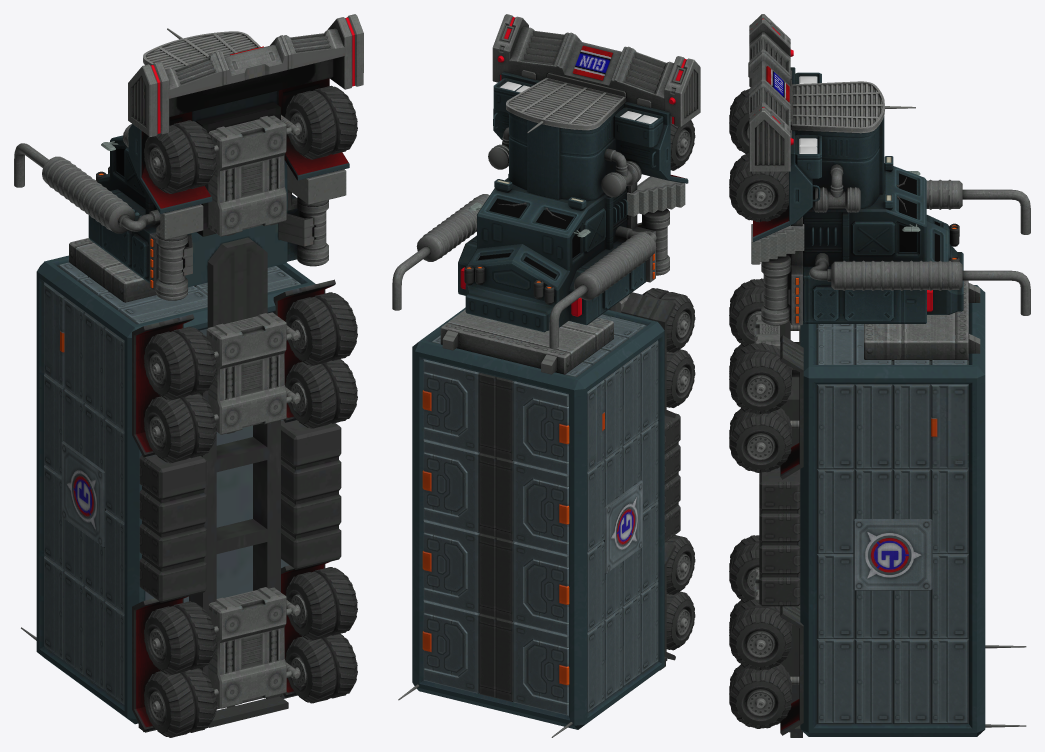
File: split gun truck.fbx
3 views of the same model, side by side, from view 1: azimuth 30°, elevation 25°; view 2: azimuth 150°, elevation 25°; view 3: azimuth 270°, elevation 25° (orthographic). The views are drawn at different scales.
Parts seen in each view (by area): view 1: cte_obj_GUNtrack100, cte_obj_GUNtrack100.004, cte_obj_GUNtrack100.001; view 2: cte_obj_GUNtrack100, cte_obj_GUNtrack100.004, cte_obj_GUNtrack100.001; view 3: cte_obj_GUNtrack100, cte_obj_GUNtrack100.004, cte_obj_GUNtrack100.001.
Part boxes in pixels (box(x1,y1,x2,y2)): cte_obj_GUNtrack100: box(21, 237, 357, 737); cte_obj_GUNtrack100.004: box(14, 14, 363, 300); cte_obj_GUNtrack100.001: box(144, 85, 357, 193); cte_obj_GUNtrack100: box(398, 205, 695, 737); cte_obj_GUNtrack100.004: box(392, 14, 700, 348); cte_obj_GUNtrack100.001: box(670, 120, 695, 170); cte_obj_GUNtrack100: box(729, 278, 1026, 737); cte_obj_GUNtrack100.004: box(748, 14, 1030, 325); cte_obj_GUNtrack100.001: box(729, 88, 788, 222).
Size of the model in its own units: 835 by 2536 by 1091.
Materials: 10 (10 with a texture image).
